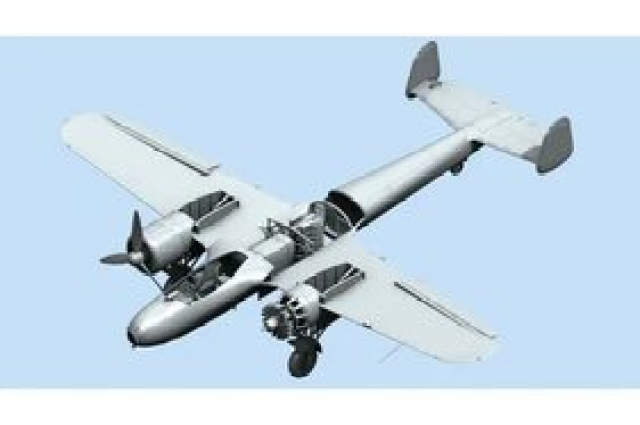military drone: (61, 40, 573, 377)
